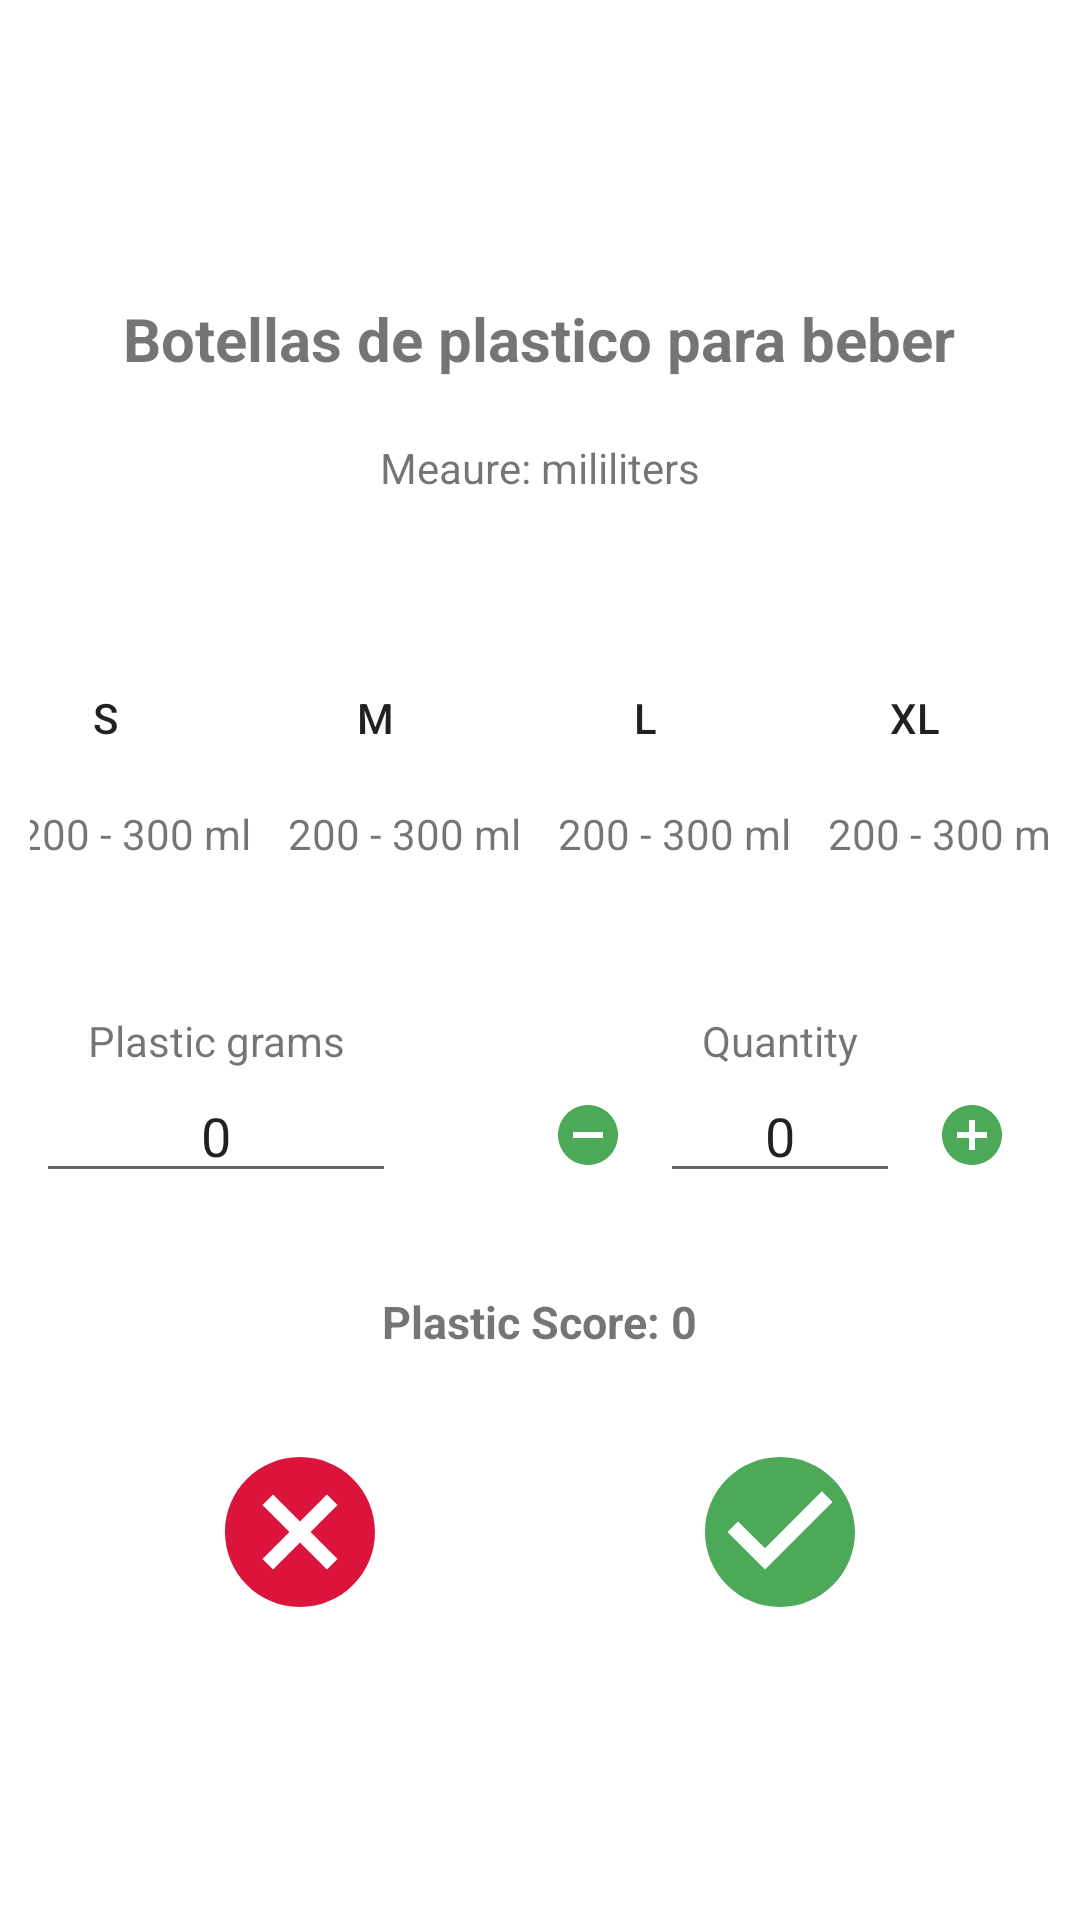

Screen size 1080w x 1920h. Icon name, then its box in pixels as (x1, y1, x2, y2):
add circle: (942, 1105, 1002, 1165)
cancel: (225, 1457, 375, 1607)
check circle: (705, 1457, 855, 1607)
remove circle: (558, 1105, 618, 1165)
